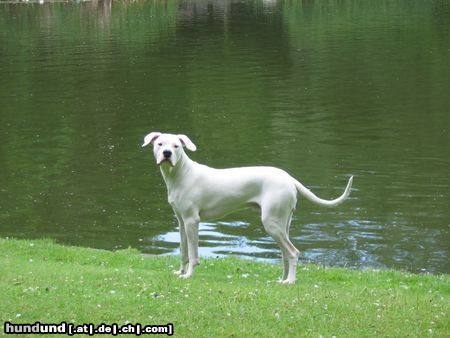dogo_argentino: (142, 132, 354, 284)
